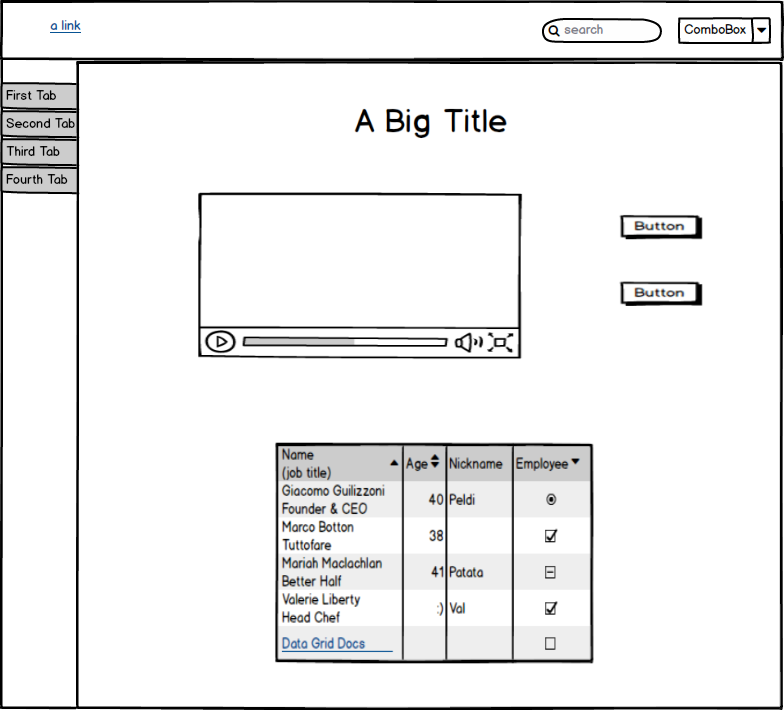button: (618, 274, 710, 311), (612, 210, 708, 244)
h1: (347, 98, 513, 146)
navlink: (46, 16, 85, 39)
search: (537, 13, 666, 46)
select_box: (674, 13, 775, 50)
sidebar: (1, 76, 85, 205)
table: (269, 436, 598, 675)
video: (189, 186, 526, 367)
